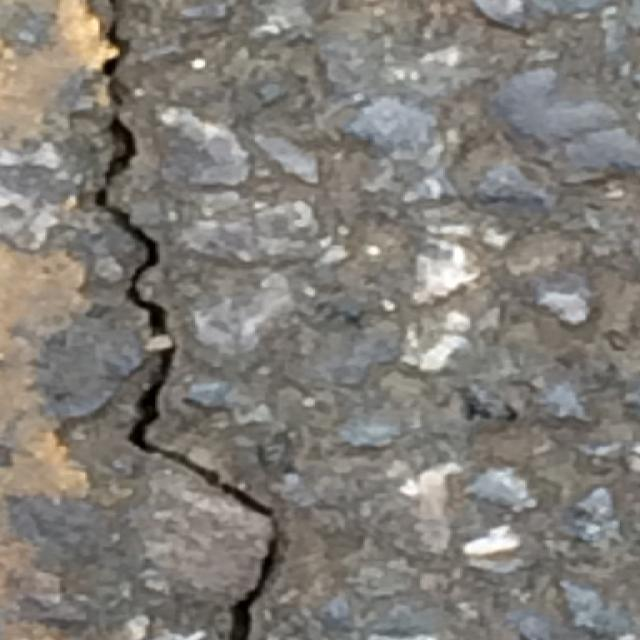crack: (93, 3, 286, 638)
